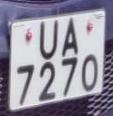0: (79, 51, 101, 96)
2: (37, 58, 61, 104)
7: (15, 56, 39, 112), (58, 54, 81, 100)
A: (61, 13, 81, 62)
U: (38, 18, 61, 64)
